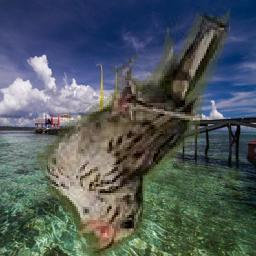Sparrow: (38, 6, 231, 256)
